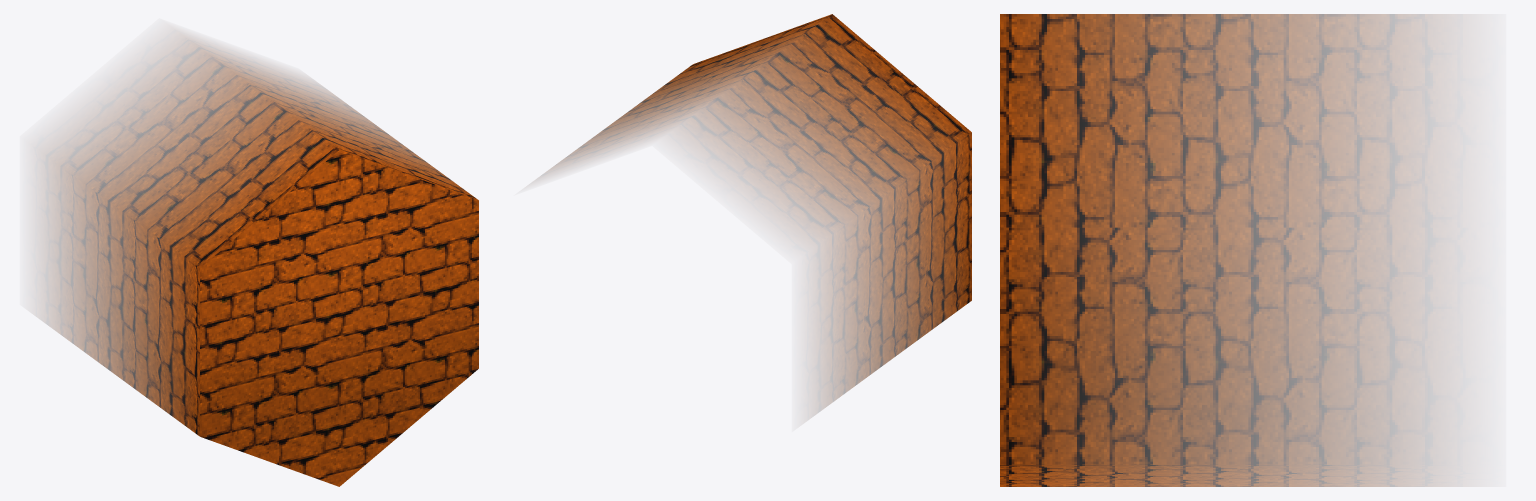
Rendered from platform.glb.
3 renders of one model, left to right at view 1: azimuth 30°, elevation 25°; view 2: azimuth 150°, elevation 25°; view 3: azimuth 270°, elevation 25°, orthographic. The views are drawn at different scales.
Visible parts, largest first — view 1: platform; view 2: platform; view 3: platform.
Part boxes in pixels (box(x1,y1,x2,y2)): platform: box(42, 35, 478, 486); platform: box(538, 14, 971, 414); platform: box(1000, 14, 1443, 486).
Size of the model in its own units: 260 by 300 by 300.
Materials: 1 (1 with a texture image).
